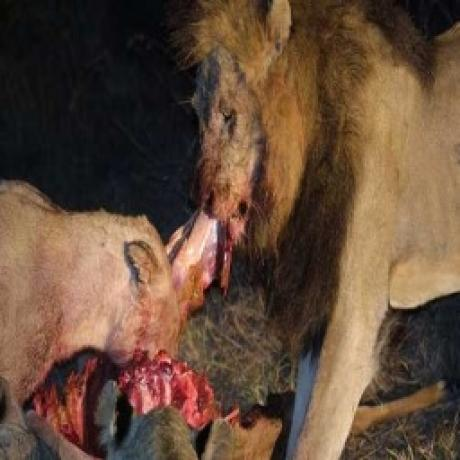Lion: (183, 0, 460, 460), (0, 177, 180, 432)
